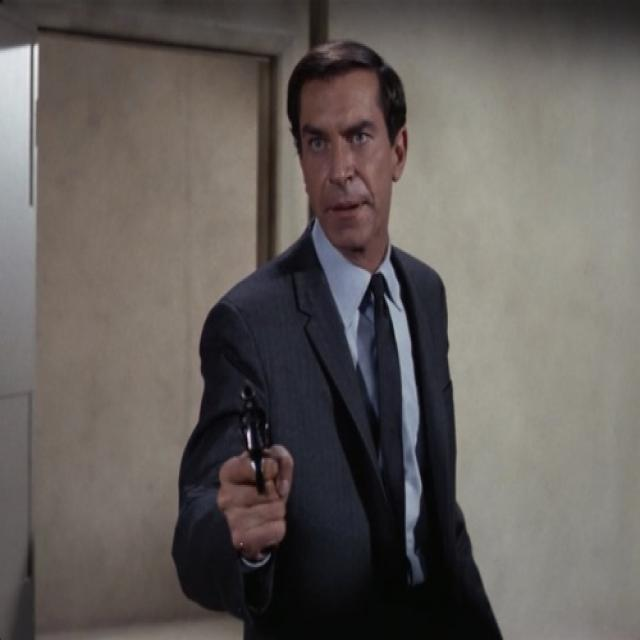weapons: (222, 369, 299, 533)
